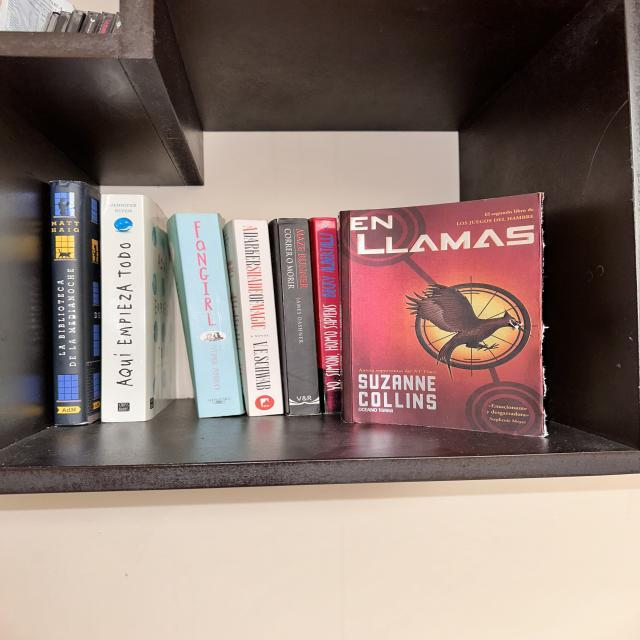hidden camera: (513, 323, 516, 326)
